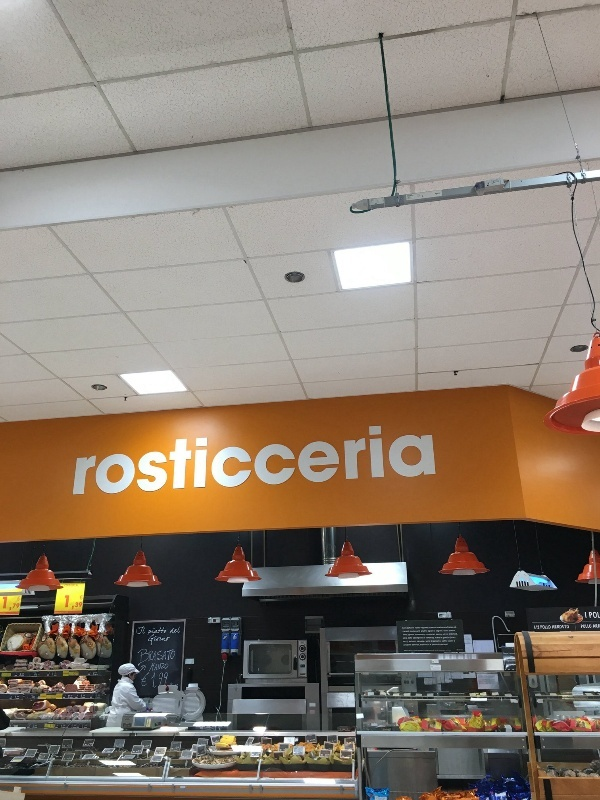text: (81, 418, 96, 497), (97, 418, 112, 497), (113, 418, 128, 497), (129, 418, 144, 497), (145, 418, 160, 497), (161, 418, 176, 497), (177, 418, 192, 497), (193, 418, 208, 497), (209, 418, 224, 497), (225, 418, 240, 497), (241, 418, 256, 497), (257, 418, 272, 497), (273, 418, 288, 497), (289, 418, 304, 497), (305, 418, 320, 497), (321, 418, 336, 497), (337, 418, 352, 497), (353, 418, 368, 497), (369, 418, 384, 497), (385, 418, 400, 497), (401, 418, 416, 497), (417, 418, 432, 497), (433, 418, 438, 497), (417, 624, 432, 648), (433, 624, 448, 648), (161, 647, 177, 668), (145, 647, 160, 668), (403, 624, 416, 648), (145, 672, 160, 689), (65, 595, 80, 611), (449, 624, 459, 648), (77, 418, 80, 497), (3, 596, 16, 611), (17, 669, 32, 682), (33, 669, 48, 682), (49, 669, 64, 682), (65, 669, 80, 682), (81, 669, 96, 682), (2, 669, 16, 682), (161, 672, 170, 689), (137, 647, 144, 668), (149, 635, 160, 646), (161, 635, 172, 646), (17, 694, 32, 701), (33, 694, 48, 701), (49, 694, 64, 701), (65, 694, 80, 701), (81, 694, 96, 701), (17, 723, 32, 730), (33, 723, 48, 730), (49, 723, 64, 730), (65, 723, 80, 730), (150, 627, 160, 636), (161, 663, 170, 672), (152, 663, 160, 672), (161, 627, 169, 636), (17, 596, 21, 611), (593, 612, 600, 620), (81, 723, 89, 730), (581, 624, 592, 629), (138, 626, 144, 635), (65, 584, 78, 588), (97, 669, 101, 682), (141, 672, 144, 689), (585, 612, 592, 619), (10, 694, 16, 701), (10, 723, 16, 730), (534, 626, 544, 630), (561, 625, 570, 629), (81, 595, 83, 611), (140, 664, 144, 672), (552, 625, 560, 629), (172, 627, 176, 634), (177, 627, 181, 634), (593, 624, 600, 628), (97, 694, 101, 701), (589, 612, 592, 620), (545, 625, 551, 629), (145, 626, 147, 635), (145, 664, 147, 672), (541, 625, 544, 629)
